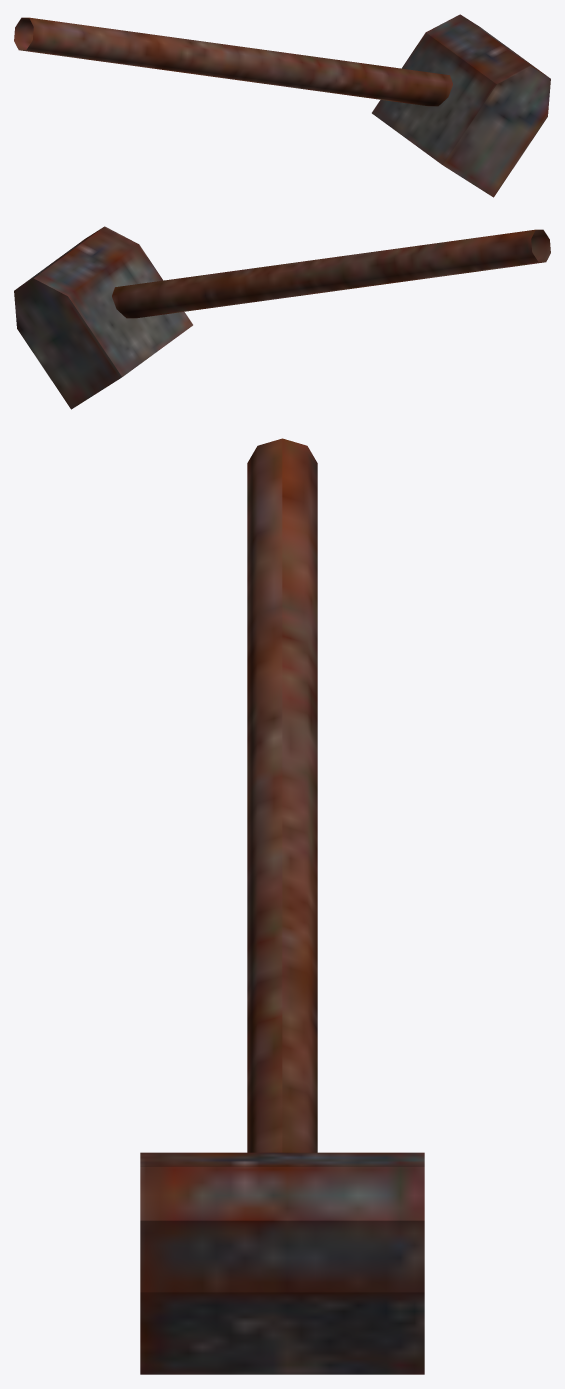
File: Hoarding Light.FBX
3 views of the same model, one above another, from view 1: azimuth 30°, elevation 25°; view 2: azimuth 150°, elevation 25°; view 3: azimuth 270°, elevation 25° (orthographic). The views are drawn at different scales.
Visible parts, largest first — view 1: Hoarding Light; view 2: Hoarding Light; view 3: Hoarding Light.
Part boxes in pixels (<box>): Hoarding Light: <box>14,14,550,197</box>; Hoarding Light: <box>14,226,550,409</box>; Hoarding Light: <box>140,438,424,1374</box>.
Size of the model in its own units: 66.96 by 33.32 by 16.61.
